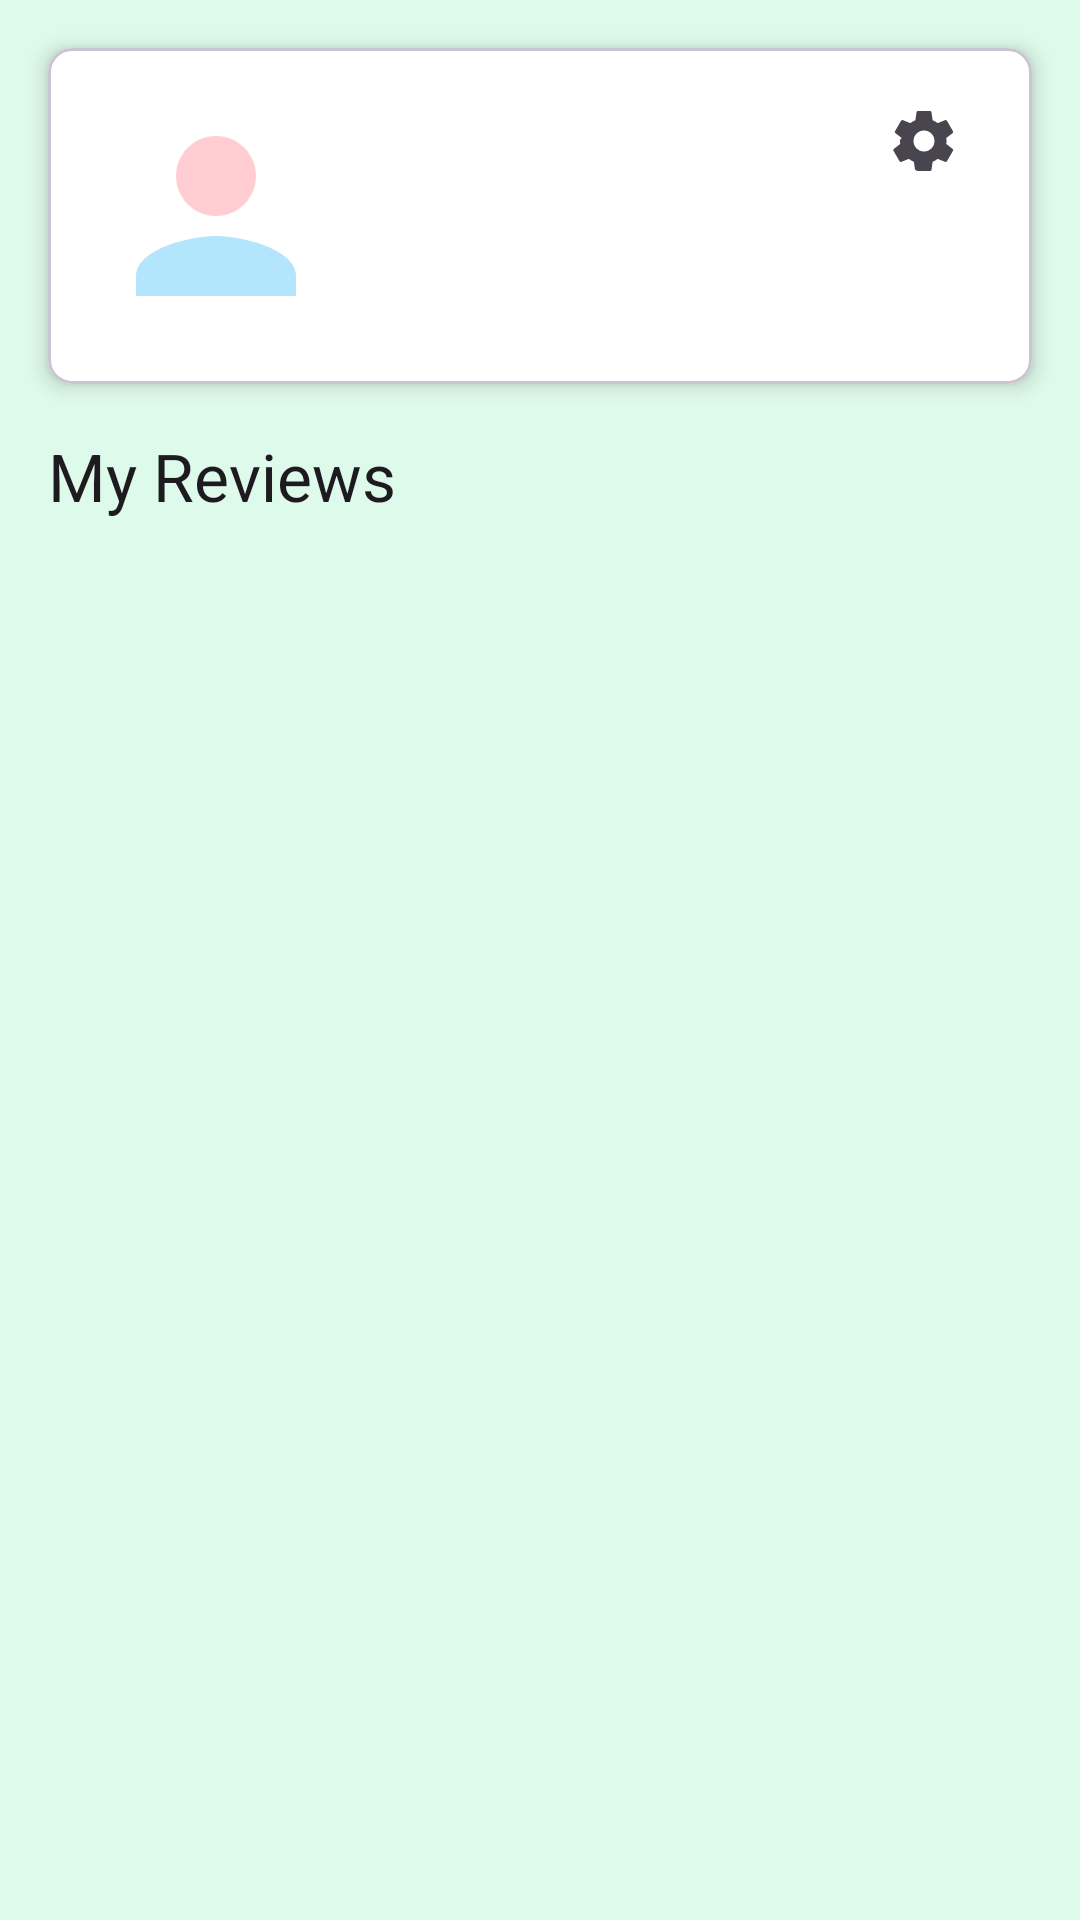

Point at icon controls on the screen. Image size 1080 × 1920, points as (x=x, y=y).
settings: (x=923, y=141)
